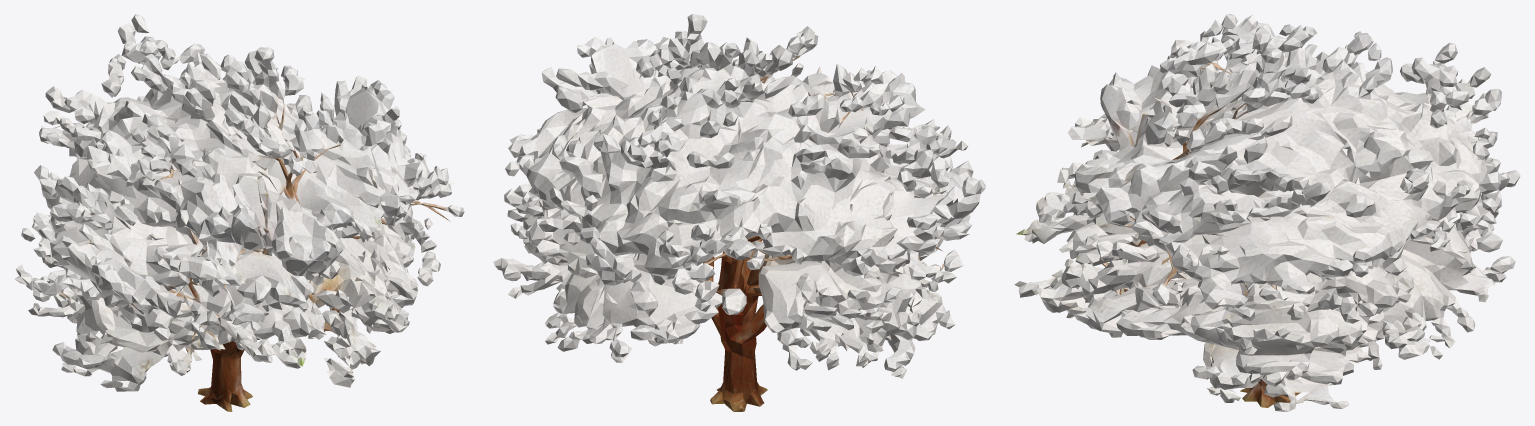
The picture shows the model from 3 angles, left to right: view 1: azimuth 30°, elevation 25°; view 2: azimuth 150°, elevation 25°; view 3: azimuth 270°, elevation 25°; orthographic projection. The views are drawn at different scales.
Parts seen in each view (by area): view 1: model; view 2: model; view 3: model.
Boxes of the visible parts, bbox=[...] form: model: bbox=[15, 14, 464, 411]; model: bbox=[493, 14, 985, 411]; model: bbox=[1014, 14, 1520, 411].
Size of the model in its own units: 1.92 by 1.52 by 1.9.
Materials: 1 (1 with a texture image).
